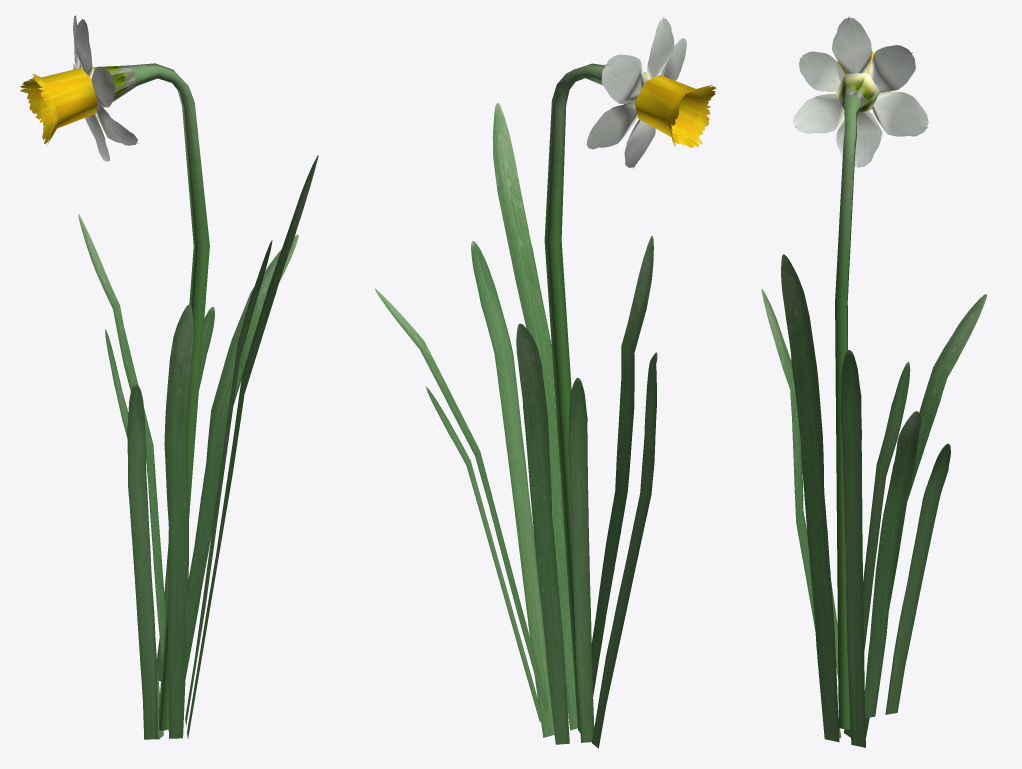
File: Narcissus1B.fbx
3 renders of one model, left to right at view 1: azimuth 30°, elevation 25°; view 2: azimuth 150°, elevation 25°; view 3: azimuth 270°, elevation 25°, orthographic. The views are drawn at different scales.
Parts seen in each view (by area): view 1: Narcissus1B_LOD0; view 2: Narcissus1B_LOD0; view 3: Narcissus1B_LOD0.
Part boxes in pixels (<box>): Narcissus1B_LOD0: <box>20,15,318,739</box>; Narcissus1B_LOD0: <box>374,16,715,748</box>; Narcissus1B_LOD0: <box>761,16,986,747</box>.
Size of what is drawn, in the model's own units: 25.77 by 57.47 by 19.55.
